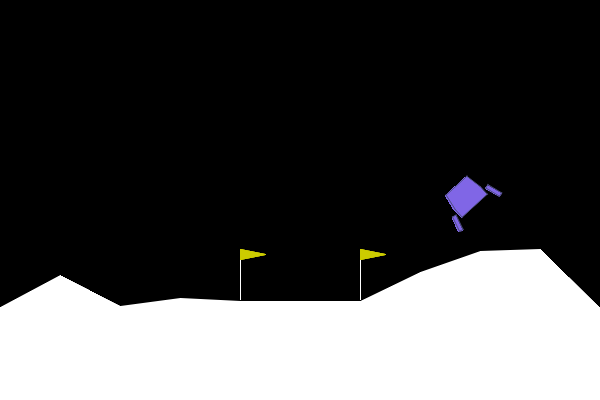lander: (432, 164, 504, 234)
